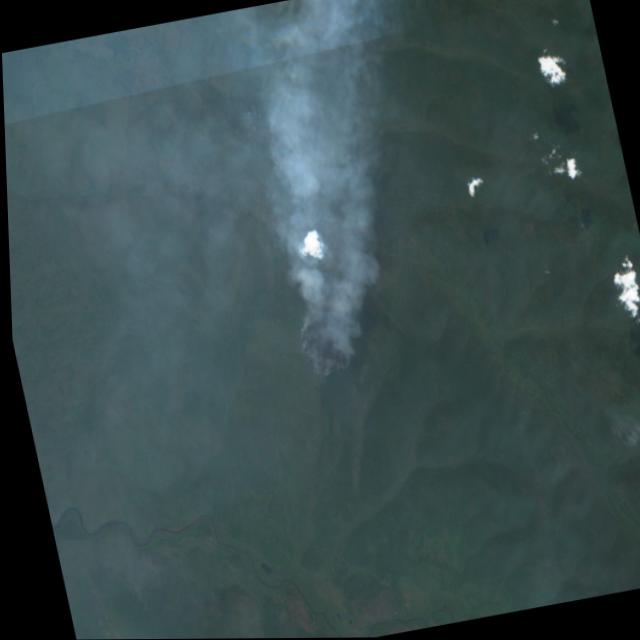fire: (288, 295, 363, 386)
